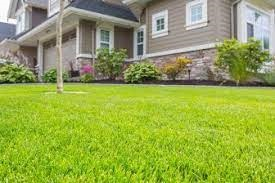grass: (1, 92, 273, 178)
tree: (56, 43, 64, 92)
